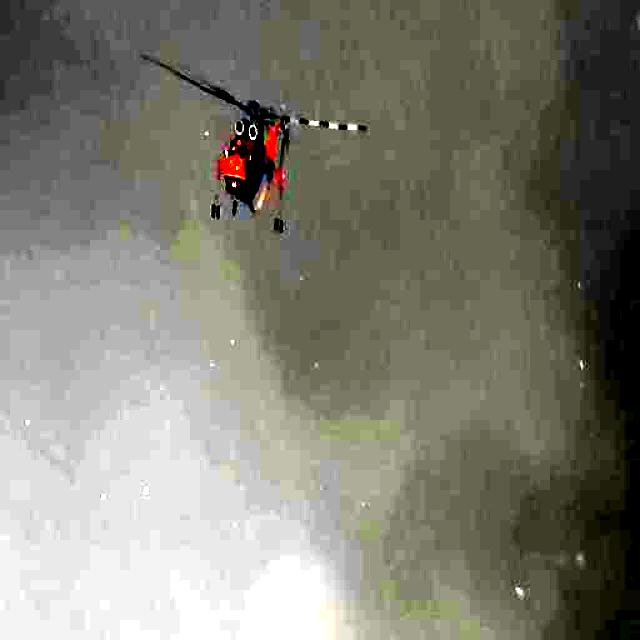drone: (188, 69, 346, 235)
